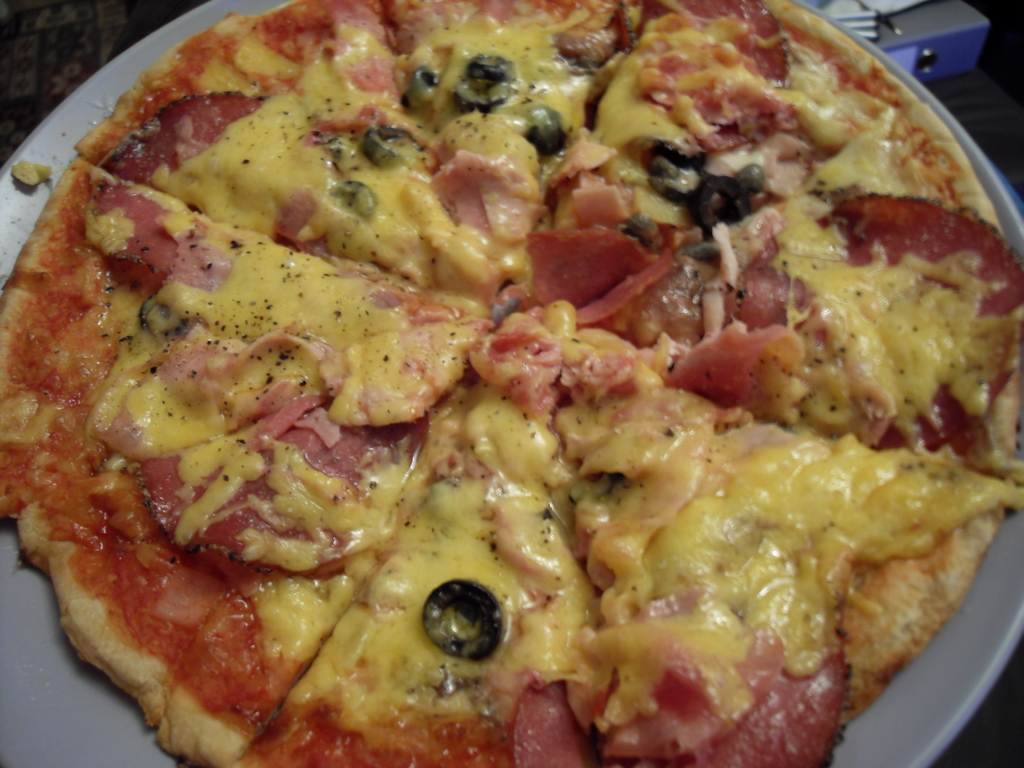Pizza: (0, 0, 1023, 765)
